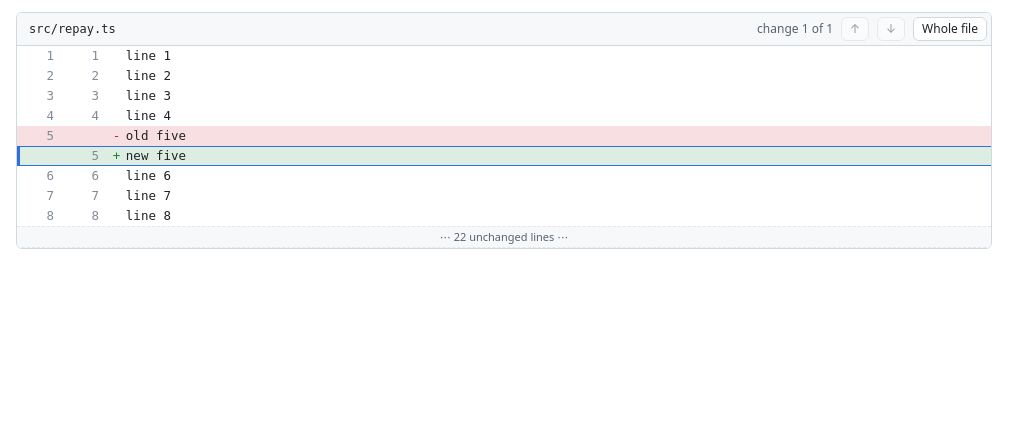
Scenario: CodeView: commenting on lines › a range that crosses the hunk boundary also becomes file-level
Expected: the text "new five" is shown, [126, 148, 186, 163]
Step 1. Click the button "3" → (84, 96), box [62, 86, 107, 106]
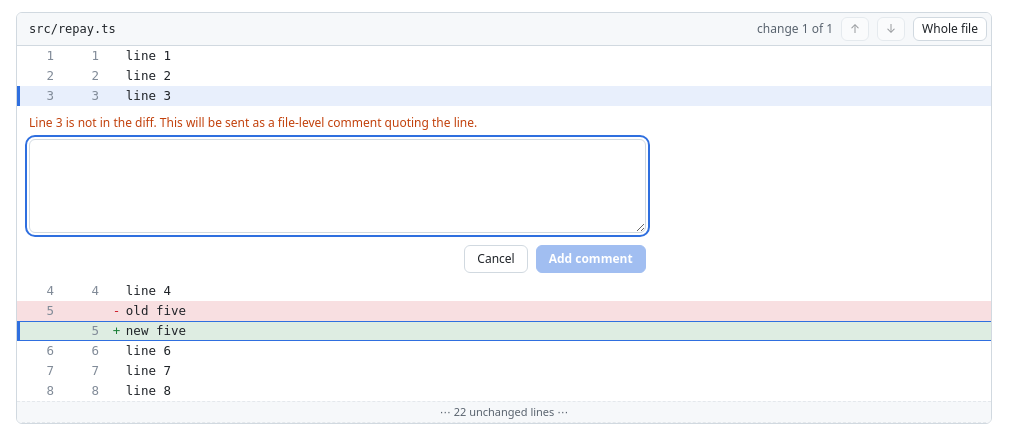
Step 2. Click the button "5" next to "new five" → (84, 331), box [62, 321, 107, 341]
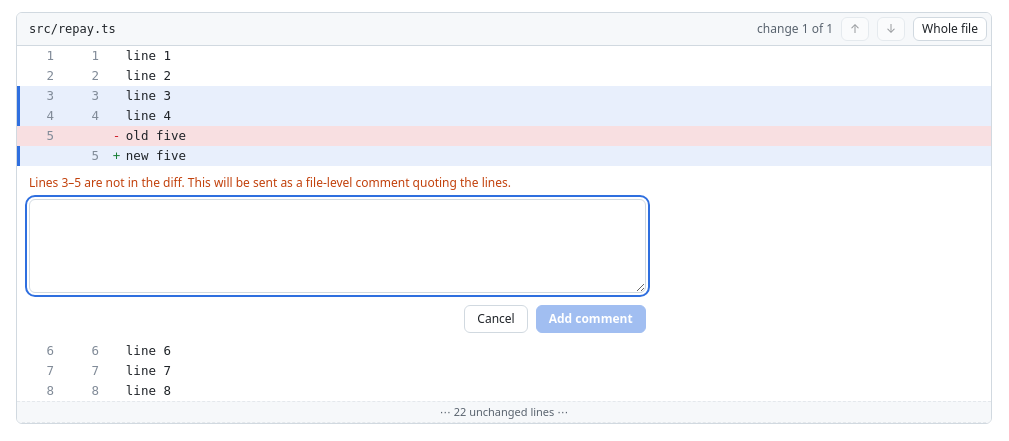
Expected: the text with class "composer-notice" shows "Lines 3–5 are not in the diff.", [29, 174, 511, 191]
